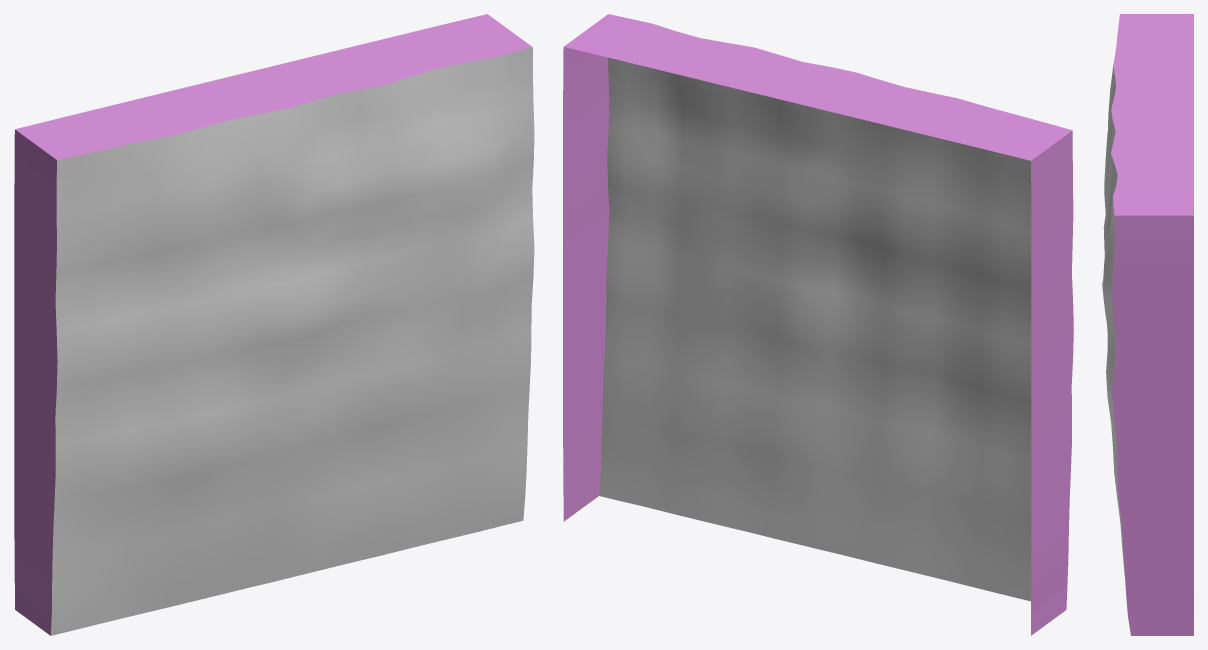
The model's file is BumpyWall.fbx.
3 views of the same model, side by side, from view 1: azimuth 30°, elevation 25°; view 2: azimuth 150°, elevation 25°; view 3: azimuth 270°, elevation 25° (orthographic). The views are drawn at different scales.
Visible parts, largest first — view 1: BumpyWall, BumpyWallBorder; view 2: BumpyWall, BumpyWallBorder; view 3: BumpyWallBorder, BumpyWall.
Boxes of the visible parts, x1=… form: BumpyWall: x1=51, y1=47, x2=534, y2=635; BumpyWallBorder: x1=14, y1=14, x2=532, y2=635; BumpyWall: x1=599, y1=57, x2=1031, y2=601; BumpyWallBorder: x1=563, y1=14, x2=1073, y2=635; BumpyWallBorder: x1=1111, y1=14, x2=1193, y2=635; BumpyWall: x1=1102, y1=66, x2=1124, y2=575.
Size of the model in its own units: 11.65 by 11.3 by 2.23.
